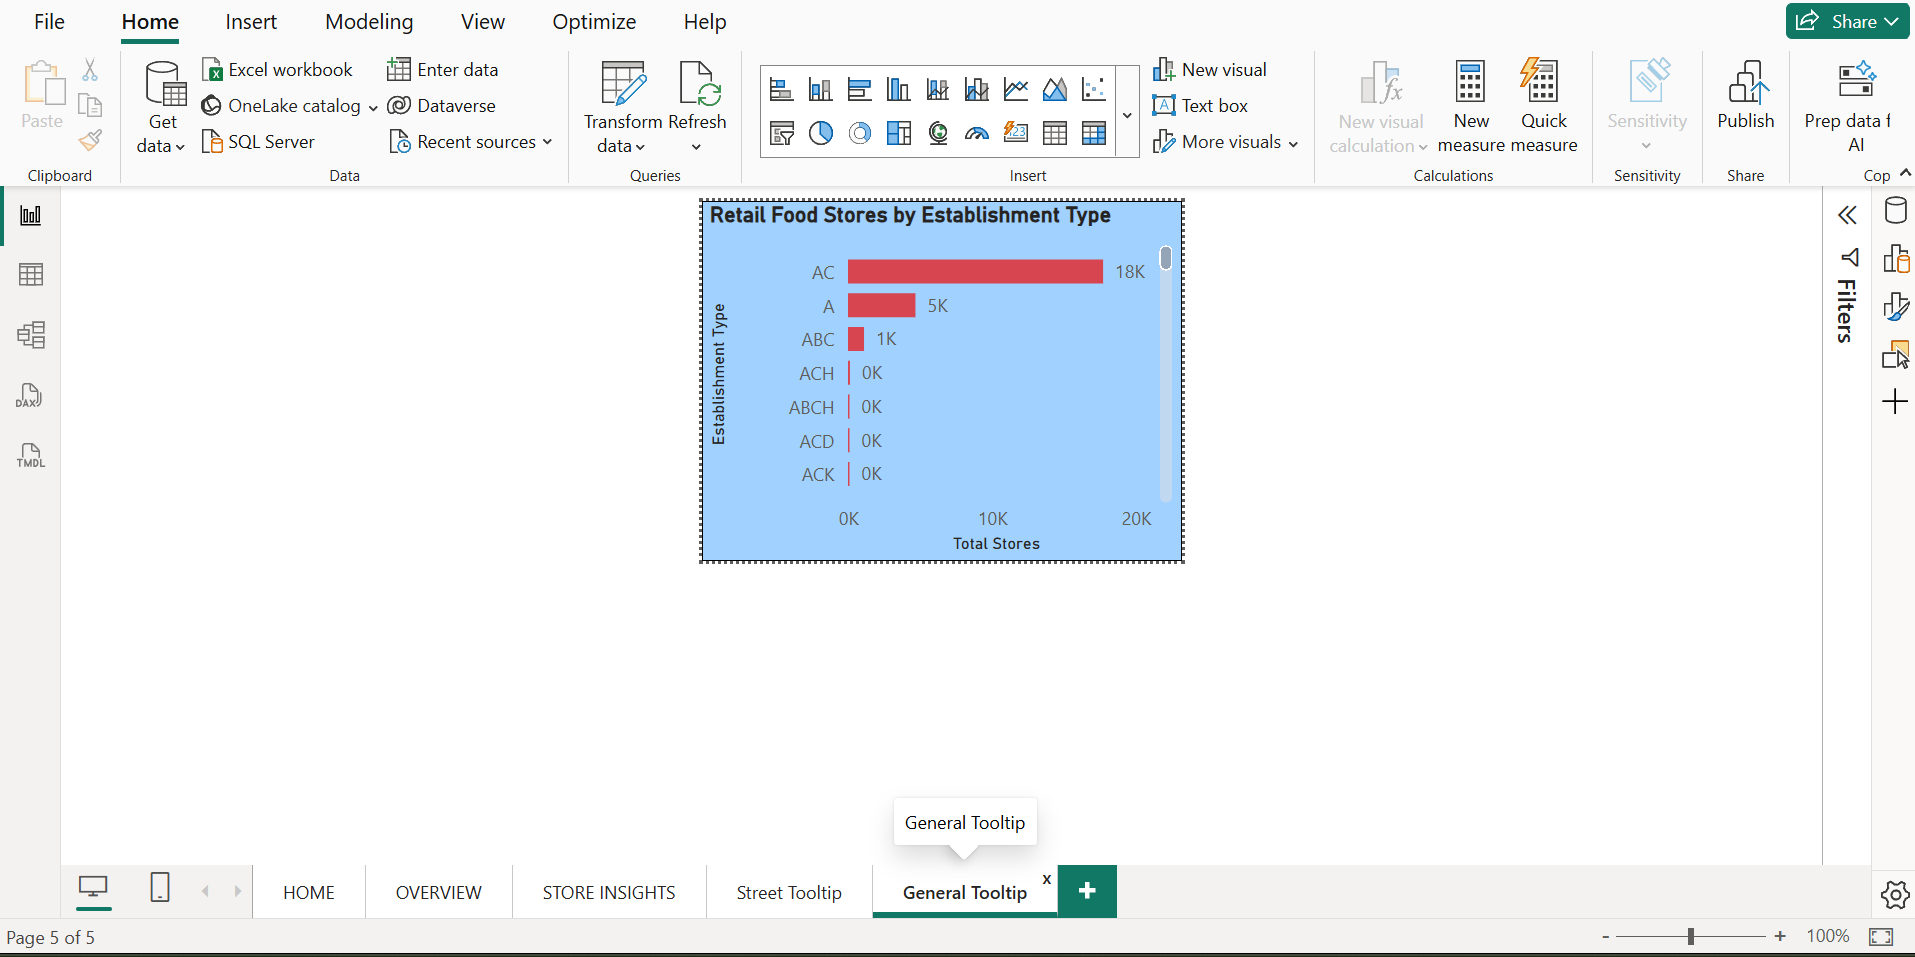

Layout of this report page (visuals, bound fields, positions):
{"tool":"powerbi","page":{"name":"General Tooltip","canvas":[320,240],"ordinal":4},"visuals":[{"type":"clusteredBarChart","title":"Retail Food Stores by Establishment Type","fields":{"Category":["Retail_Food_Stores.Establishment Type"],"Y":["Retail_Food_Stores.Total Stores"]},"box":[0,0,320,240],"z":0}]}

Visuals, with their boxes on the page's 320x240 design canvas (x1, y1, x2, y2). These are canvas units, not pixel positions in the 1915x957 screenshot, which may show the page scaled, cropped or inside an application window:
"Retail Food Stores by Establishment Type" clusteredBarChart: left=0, top=0, right=320, bottom=240
